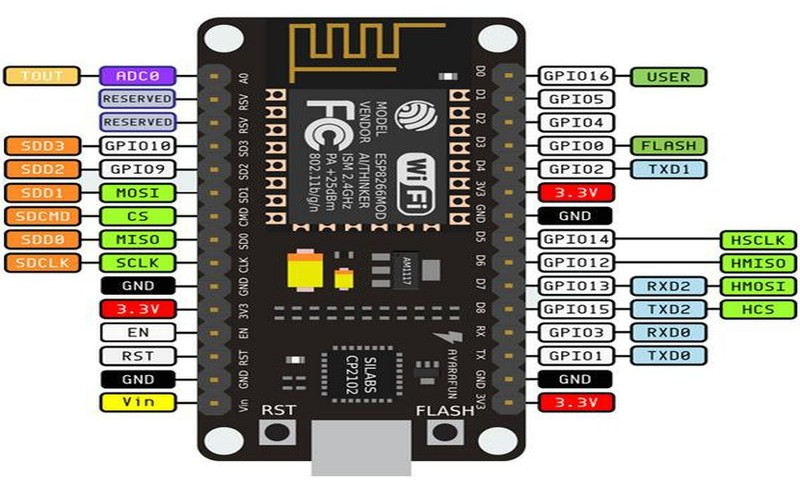IoT Sensor: (182, 7, 532, 483)
